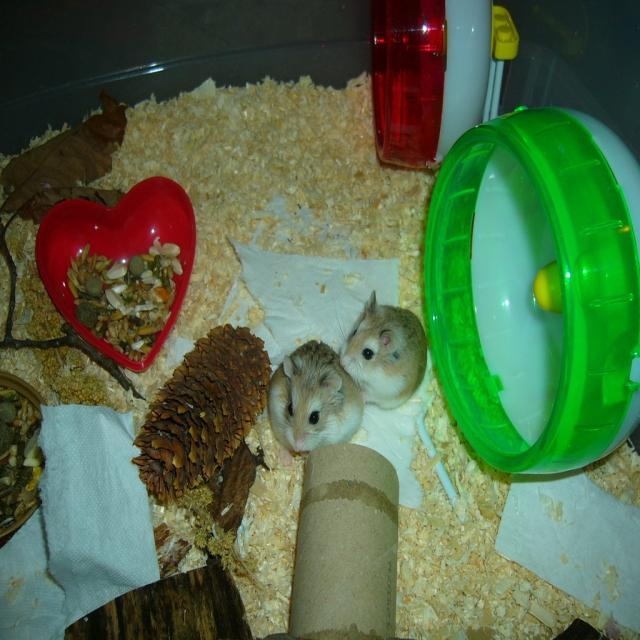rat: (325, 285, 429, 408), (266, 338, 362, 457)
